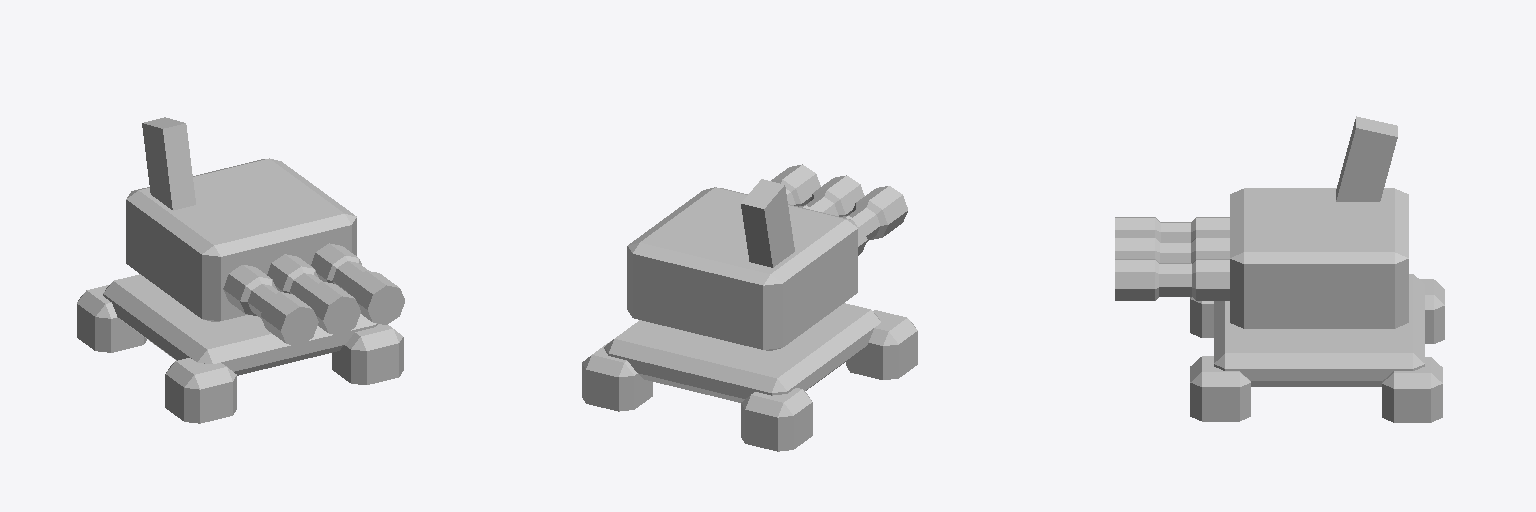
The model's file is turret.obj.
3 views of the same model, side by side, from view 1: azimuth 30°, elevation 25°; view 2: azimuth 150°, elevation 25°; view 3: azimuth 270°, elevation 25° (orthographic).
Parts seen in each view (by area): view 1: Cube.001, Cube; view 2: Cube.001, Cube; view 3: Cube.001, Cube.
Part boxes in pixels (x1,y1,x2,y2): Cube.001: (126, 117, 404, 345); Cube: (77, 274, 403, 423); Cube.001: (627, 164, 907, 350); Cube: (582, 303, 917, 451); Cube.001: (1115, 116, 1408, 328); Cube: (1190, 274, 1444, 422).
Bounding box in the file's own units: 2.42 × 2.35 × 3.13.